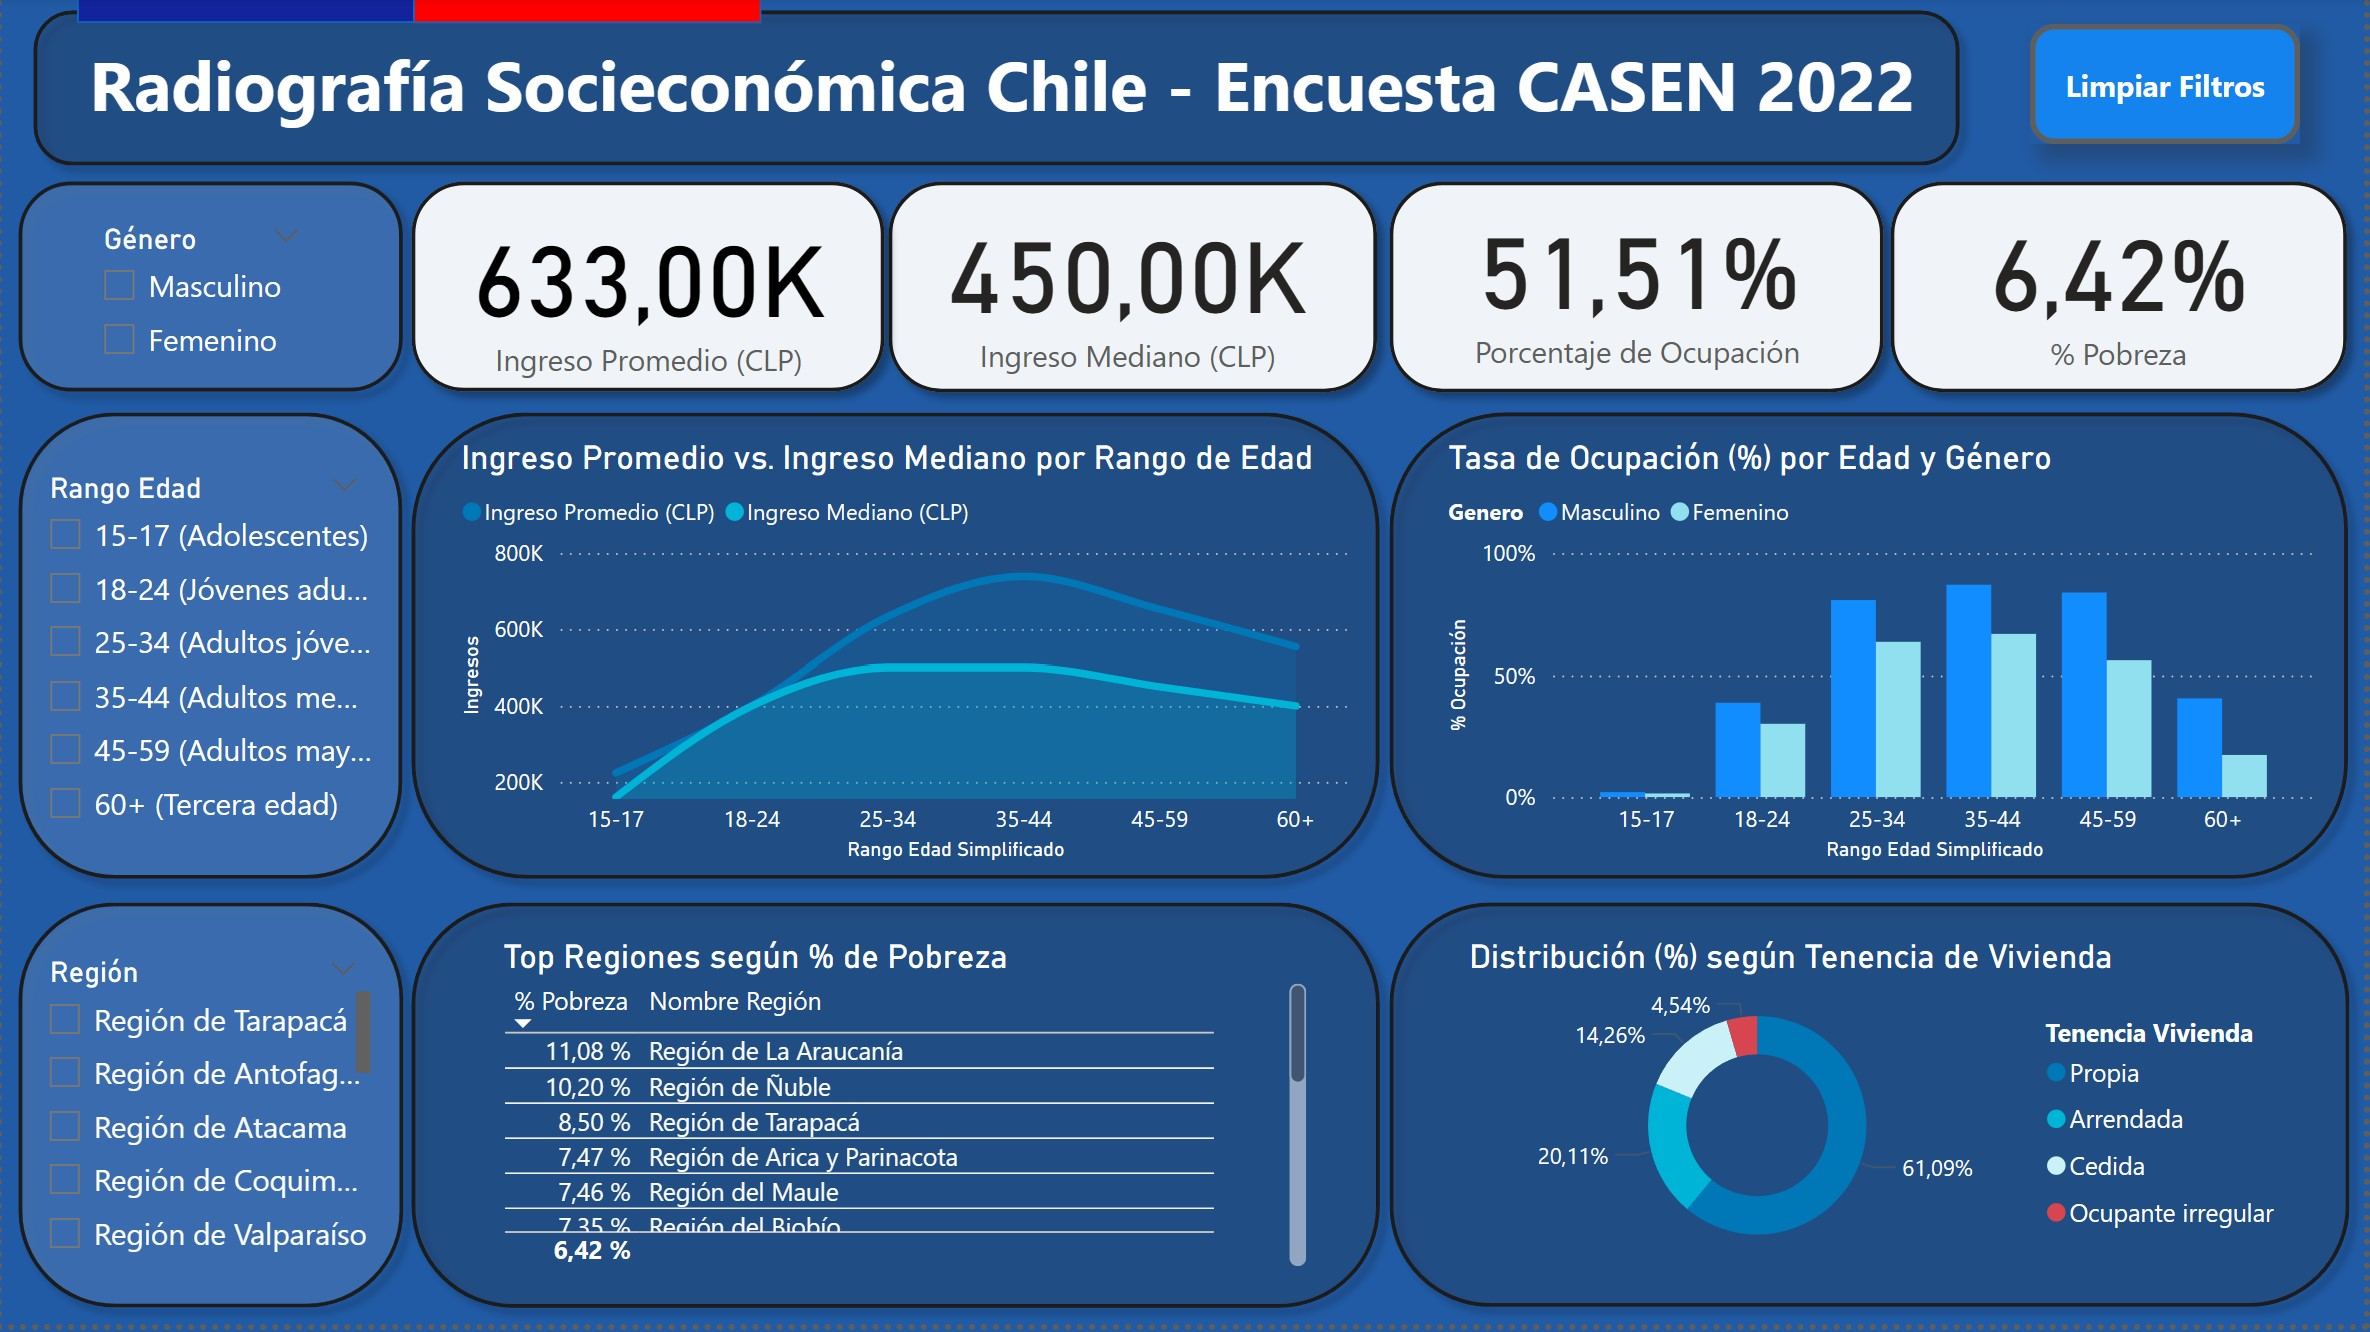

This screenshot's page, from the dashboard's own definition file:
{"tool":"powerbi","page":{"name":"Dashboard CASEN","canvas":[1280,720],"ordinal":0},"visuals":[{"type":"shape","box":[0,92.8,226.1,131.7],"z":0},{"type":"shape","box":[0,217.5,225.8,270],"z":1000},{"type":"shape","box":[0,482.7,226.4,237.3],"z":2000},{"type":"shape","box":[742.9,217.1,537.1,270],"z":3000},{"type":"shape","box":[212.5,482.5,542.5,237.5],"z":4000},{"type":"shape","box":[1014.8,92.2,265.2,132.2],"z":5000},{"type":"shape","box":[742.2,92.2,285.7,132.2],"z":6000},{"type":"shape","box":[471.3,92.2,282.6,132.2],"z":7000},{"type":"shape","box":[212.5,92.5,274.2,131.7],"z":8000},{"type":"shape","box":[212.3,217.2,542.3,269.9],"z":9000},{"type":"shape","box":[743,483,538,237],"z":10000},{"type":"card","fields":{"Values":["Medidas.Ingreso Promedio"]},"box":[229.2,101.7,242.5,114.2],"z":11000},{"type":"card","fields":{"Values":["Medidas.Porcentaje de Ocupación"]},"box":[764.8,99.6,240.9,112.2],"z":12000},{"type":"card","fields":{"Values":["Medidas.% Pobreza"]},"box":[1026.1,98.7,242.2,114.3],"z":13000},{"type":"donutChart","title":"Distribución (%) según Tenencia de Vivienda","fields":{"Y":["CountNonNull(casen_2022.ten_viv)"],"Category":["casen_2022.Tenencia Vivienda"]},"box":[789.9,510.3,455.1,183.7],"z":14000},{"type":"clusteredColumnChart","title":"Tasa de Ocupación (%) por Edad y Género","fields":{"Y":["Medidas.Porcentaje de Ocupación"],"Series":["casen_2022.Genero"],"Category":["casen_2022.Rango Edad Simplificado"]},"box":[778.3,240,480,233.3],"z":15000},{"type":"slicer","fields":{"Values":["casen_2022.Nombre Región"]},"box":[12.7,514.5,191.8,173.6],"z":16000},{"type":"slicer","fields":{"Values":["casen_2022.Genero"]},"box":[41.7,118.3,131.7,93.3],"z":17000},{"type":"card","fields":{"Values":["Medidas.Ingreso Mediano"]},"box":[489.4,101.2,241.2,113.1],"z":18000},{"type":"slicer","fields":{"Values":["casen_2022.Rango Edad"]},"box":[12.5,253.8,192.5,211.2],"z":19000},{"type":"shape","box":[8.6,0,1061.4,101.8],"z":20000},{"type":"textbox","box":[34.3,18.6,1015.7,64.3],"z":21000},{"type":"lineChart","title":"Ingreso Promedio vs. Ingreso Mediano por Rango de Edad","fields":{"Category":["casen_2022.Rango Edad Simplificado"],"Y":["Medidas.Ingreso Promedio","Medidas.Ingreso Mediano"]},"box":[243.3,240,491.7,233.3],"z":22000},{"type":"shape","box":[40,0,187.1,15.7],"z":23000},{"type":"shape","box":[222.4,0,188.8,15.9],"z":24000},{"type":"actionButton","box":[1098.7,16.3,146.3,65],"z":25000},{"type":"tableEx","title":"Top Regiones según % de Pobreza","fields":{"Values":["Medidas.% Pobreza","casen_2022.Nombre Región"]},"box":[266.7,510,445,183.3],"z":26000}]}

Visuals, with their boxes in screenshot pixels (x1, y1, x2, y2), scaled from the page's 1280x720 canvas onto the 2370x1332 screenshot:
shape: {"left": 0, "top": 172, "right": 419, "bottom": 415}
shape: {"left": 0, "top": 402, "right": 418, "bottom": 902}
shape: {"left": 0, "top": 893, "right": 419, "bottom": 1331}
shape: {"left": 1376, "top": 402, "right": 2369, "bottom": 901}
shape: {"left": 393, "top": 893, "right": 1398, "bottom": 1331}
shape: {"left": 1879, "top": 171, "right": 2369, "bottom": 415}
shape: {"left": 1374, "top": 171, "right": 1903, "bottom": 415}
shape: {"left": 873, "top": 171, "right": 1396, "bottom": 415}
shape: {"left": 393, "top": 171, "right": 901, "bottom": 415}
shape: {"left": 393, "top": 402, "right": 1397, "bottom": 901}
shape: {"left": 1376, "top": 894, "right": 2369, "bottom": 1331}
card - Medidas.Ingreso Promedio: {"left": 424, "top": 188, "right": 873, "bottom": 399}
card - Medidas.Porcentaje de Ocupación: {"left": 1416, "top": 184, "right": 1862, "bottom": 392}
card - Medidas.% Pobreza: {"left": 1900, "top": 183, "right": 2348, "bottom": 394}
"Distribución (%) según Tenencia de Vivienda" donutChart: {"left": 1463, "top": 944, "right": 2305, "bottom": 1284}
"Tasa de Ocupación (%) por Edad y Género" clusteredColumnChart: {"left": 1441, "top": 444, "right": 2330, "bottom": 876}
slicer - casen_2022.Nombre Región: {"left": 24, "top": 952, "right": 379, "bottom": 1273}
slicer - casen_2022.Genero: {"left": 77, "top": 219, "right": 321, "bottom": 391}
card - Medidas.Ingreso Mediano: {"left": 906, "top": 187, "right": 1353, "bottom": 396}
slicer - casen_2022.Rango Edad: {"left": 23, "top": 470, "right": 380, "bottom": 860}
shape: {"left": 16, "top": 0, "right": 1981, "bottom": 188}
textbox: {"left": 64, "top": 34, "right": 1944, "bottom": 153}
"Ingreso Promedio vs. Ingreso Mediano por Rango de Edad" lineChart: {"left": 450, "top": 444, "right": 1361, "bottom": 876}
shape: {"left": 74, "top": 0, "right": 420, "bottom": 29}
shape: {"left": 412, "top": 0, "right": 761, "bottom": 29}
actionButton: {"left": 2034, "top": 30, "right": 2305, "bottom": 150}
"Top Regiones según % de Pobreza" tableEx: {"left": 494, "top": 944, "right": 1318, "bottom": 1283}
